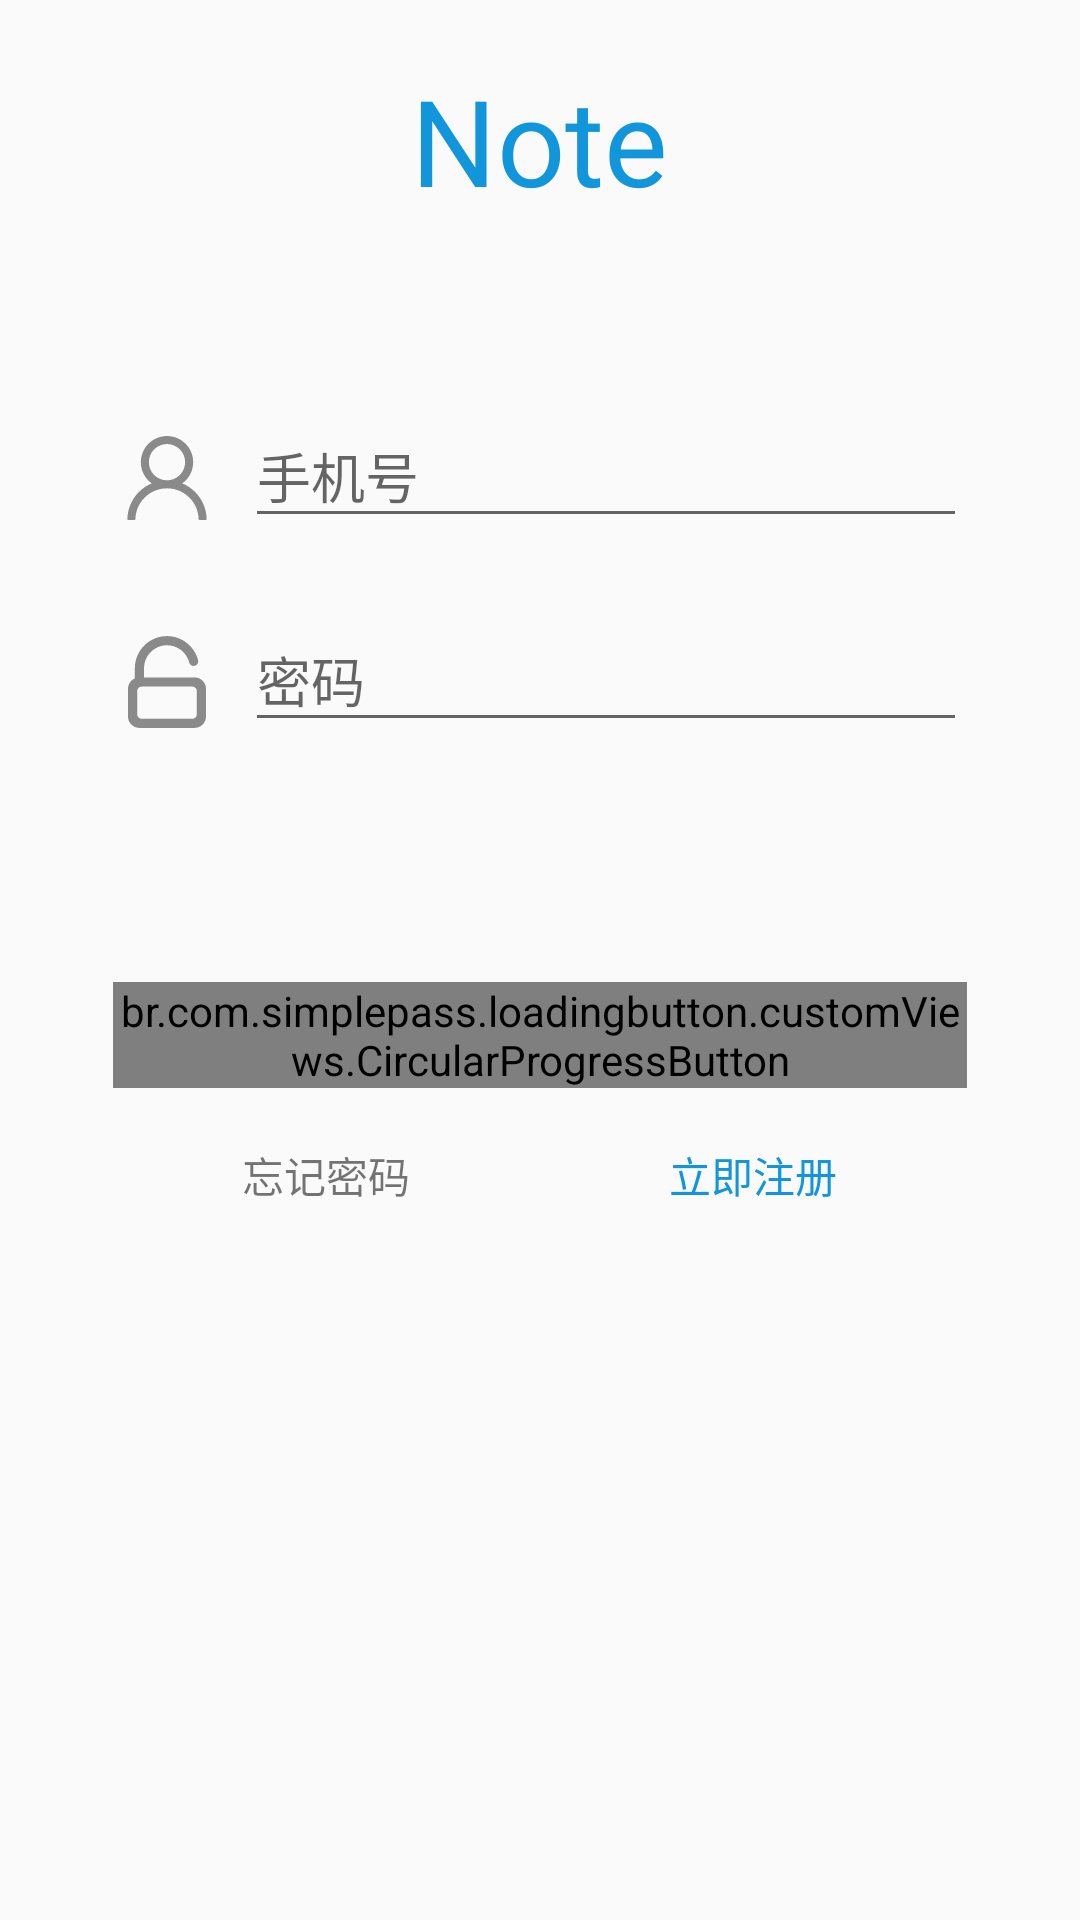

Named icons in this screenshot (1080px×1920px) and their bounding boxes, (x1, y1, x2, y2):
password: (128, 636, 206, 728)
user: (127, 436, 207, 520)
